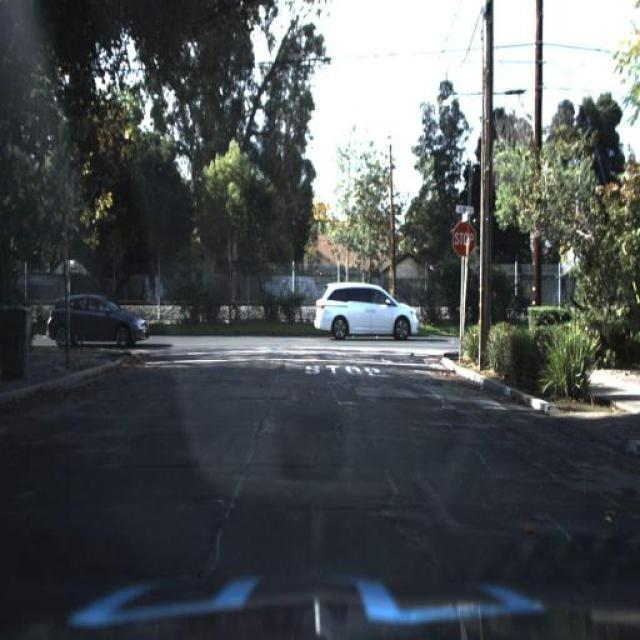car: (294, 278, 441, 352), (314, 274, 421, 342), (46, 298, 150, 352)
